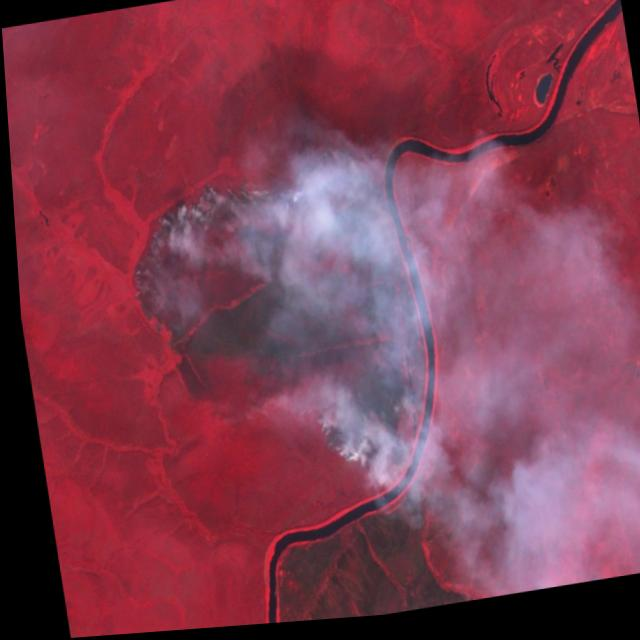fire: (108, 127, 436, 516)
